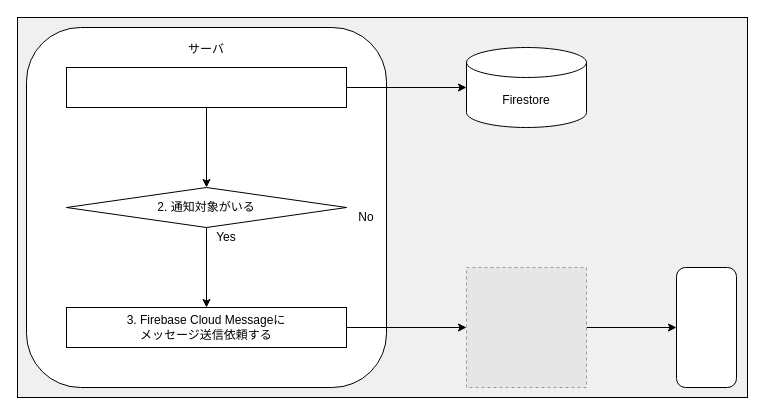
Some shapes in this 765 by 415 pixel diagram are drawn without their labels. Grey dashed boxes stand in for pictures. The shapes that lost their labels are listed below. From the top down, each one's centre as x and y in pixels, then its label:
(206,87): 1. 定期的にFirebaseにアクセスする
(706,327): スマホ
